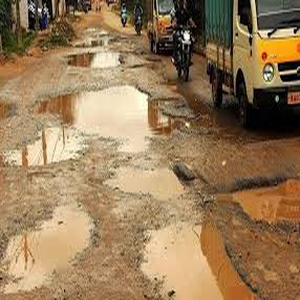pothole: (36, 87, 181, 154), (2, 201, 98, 291), (141, 219, 245, 300), (105, 162, 195, 199), (13, 130, 88, 174), (231, 183, 300, 225), (71, 51, 124, 69), (76, 38, 117, 46)
